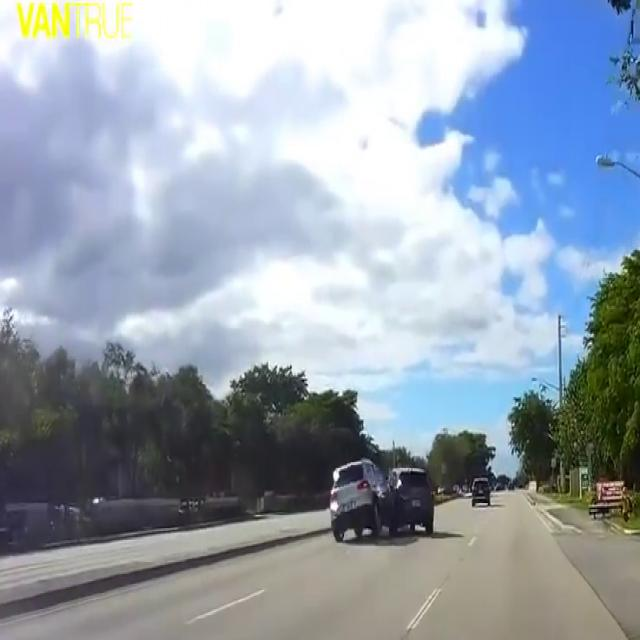accident: (319, 430, 439, 548)
